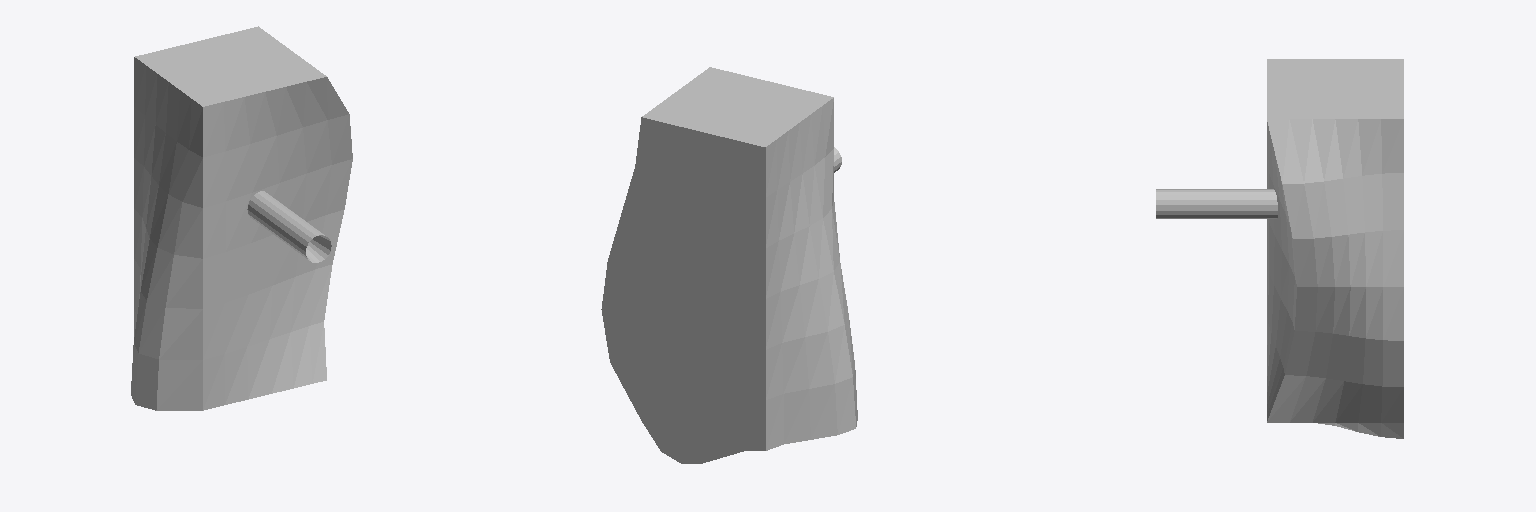
The model's file is house2.obj.
3 views of the same model, side by side, from view 1: azimuth 30°, elevation 25°; view 2: azimuth 150°, elevation 25°; view 3: azimuth 270°, elevation 25° (orthographic).
Visible parts, largest first — view 1: Box001, Cylinder001; view 2: Box001; view 3: Box001, Cylinder001.
Part boxes in pixels (x1,y1,x2,y2): Box001: (131, 26, 352, 410); Cylinder001: (247, 191, 331, 262); Box001: (601, 67, 857, 463); Box001: (1267, 59, 1403, 438); Cylinder001: (1156, 189, 1277, 218).
Size of the model in its own units: 4.58 by 7.05 by 4.71.